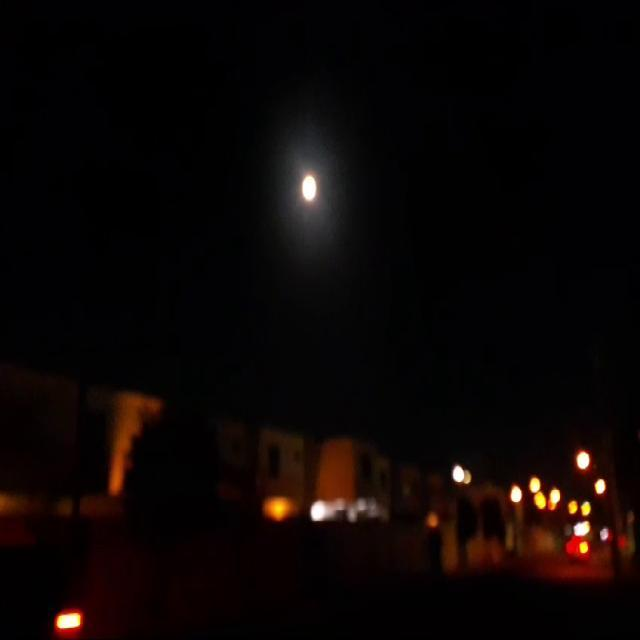moon: (298, 170, 318, 204)
